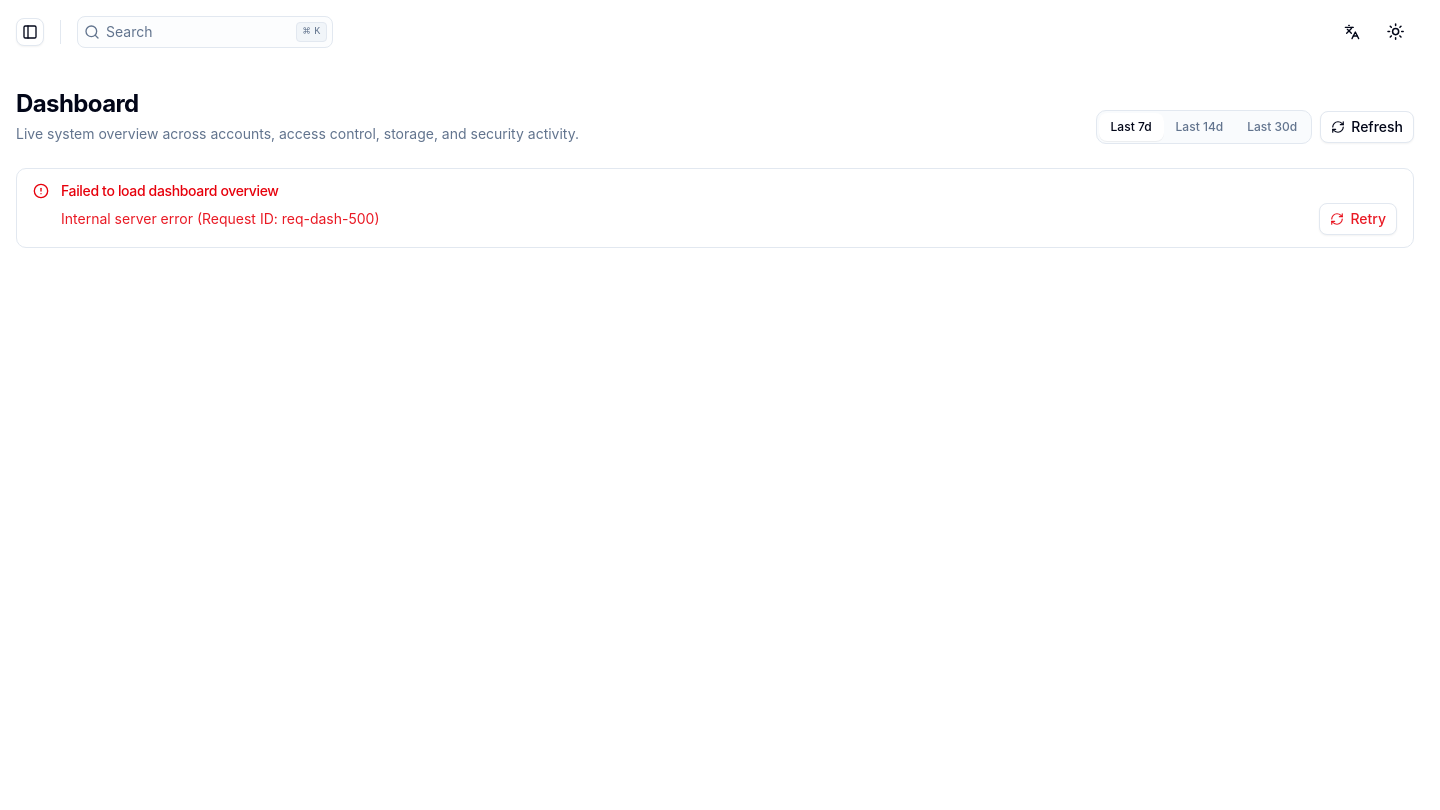
Test: Dashboard page › renders localized 5xx requestId error alert and recovers on retry
Click the button "Retry" at (1358, 219), box x1=1319 y1=203 x2=1397 y2=235
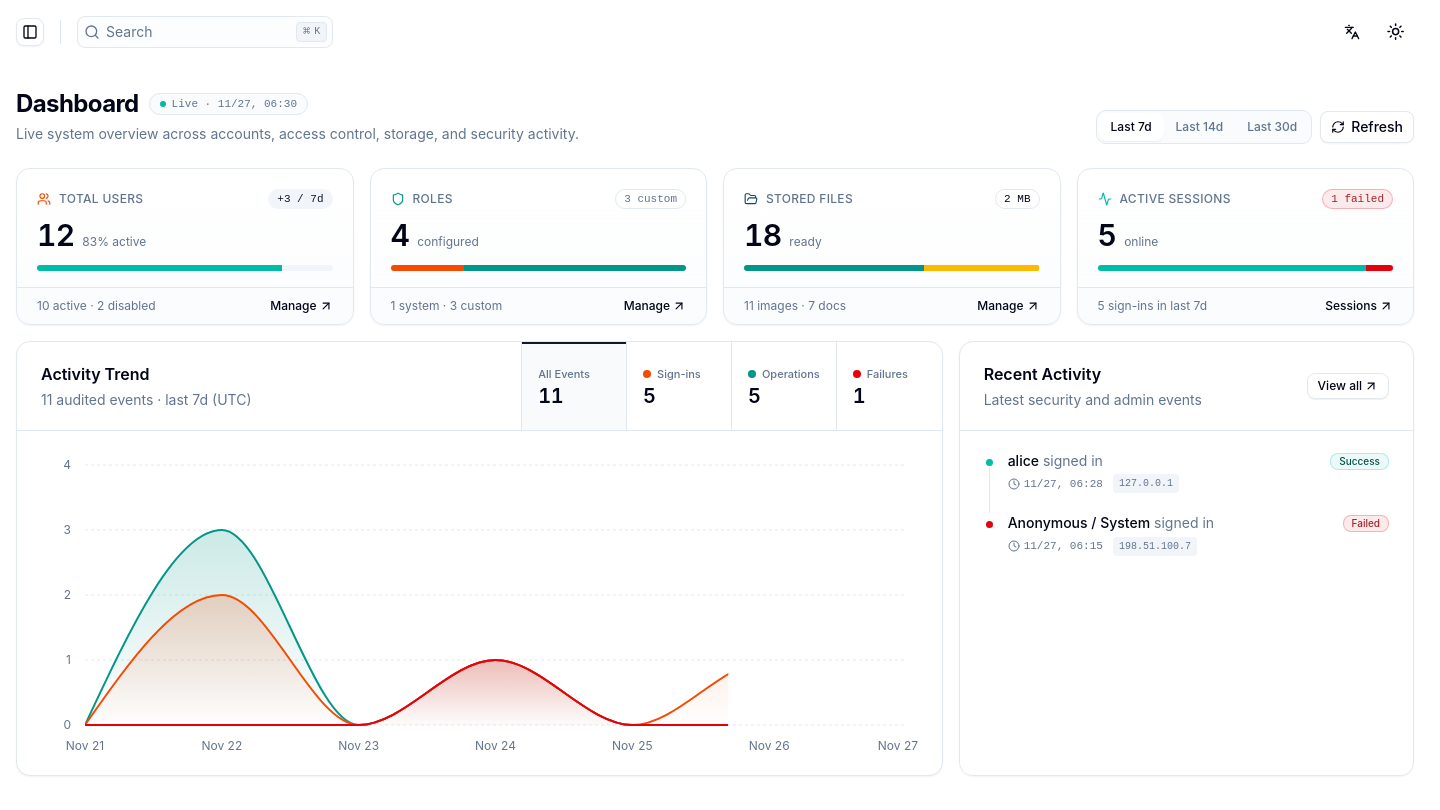
Check: the text with test id "dashboard-kpi-users-value" reads "12", box x1=37 y1=217 x2=74 y2=253
